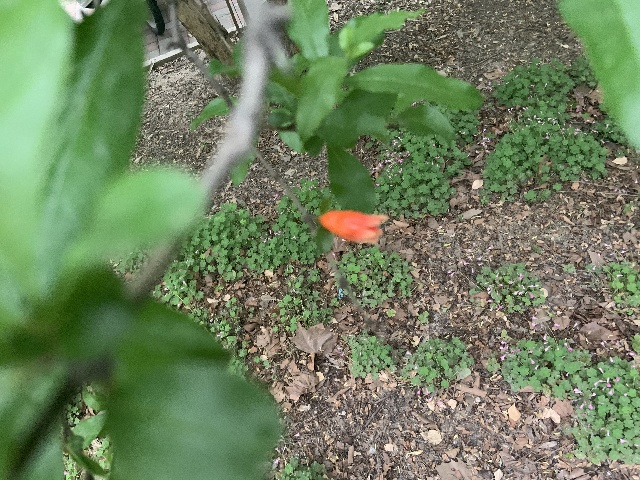flower: (317, 209, 387, 243)
